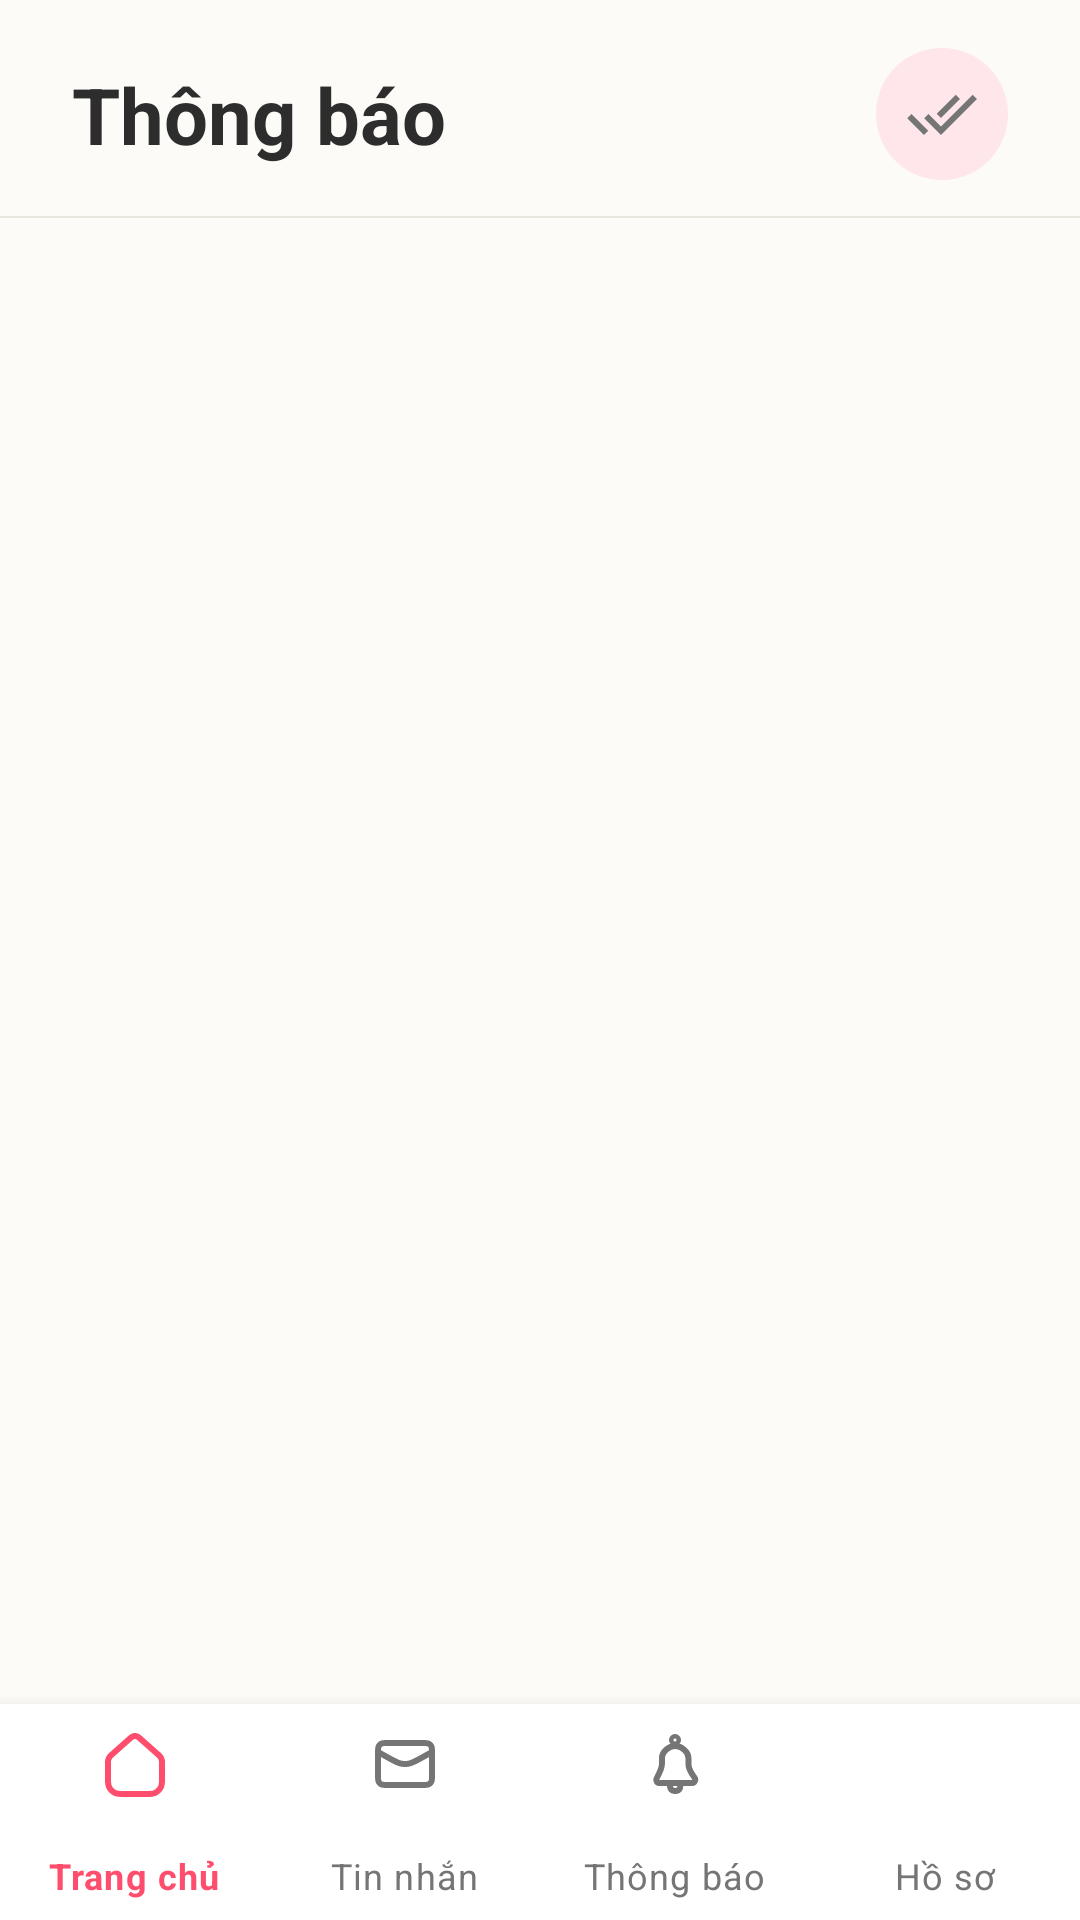

Screen size 1080×1920. Icon name, then its center in pixels as (x=x, y=y):
Đánh dấu đã đọc tất cả: (x=942, y=114)
